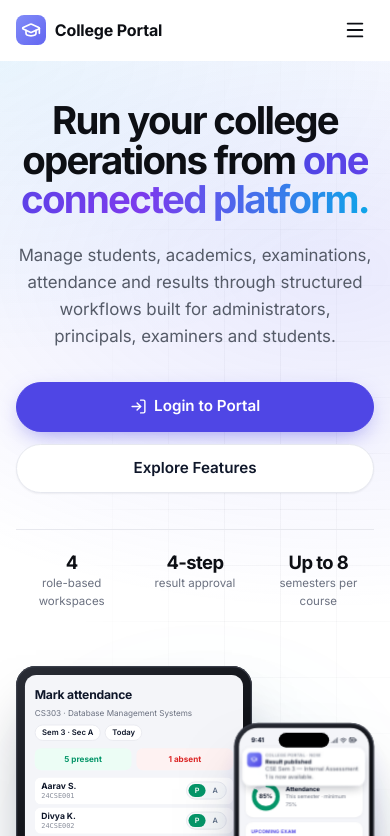
Test case: HomePage › toggles the mobile menu accessibly
What coordinates should you click on to do the following:
click the button named "Open menu"
I would click on:
 (355, 30)
Its box is x1=336 y1=11 x2=374 y2=49.
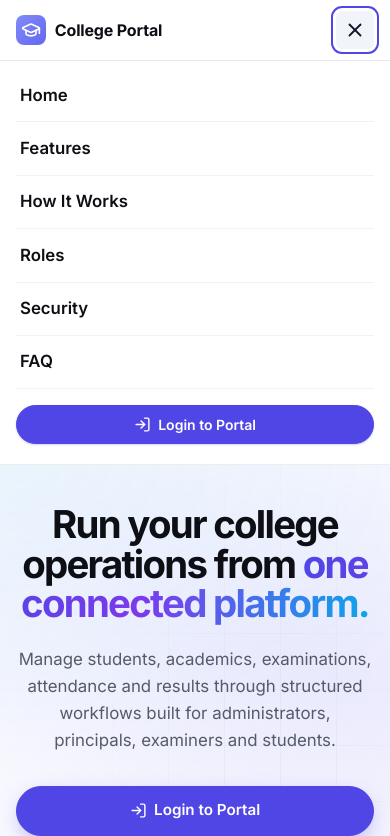
Expected: the button named "Close menu" is expanded, x1=336 y1=11 x2=374 y2=49
Expected: the navigation bar named "Mobile" is shown, x1=0 y1=60 x2=389 y2=464
